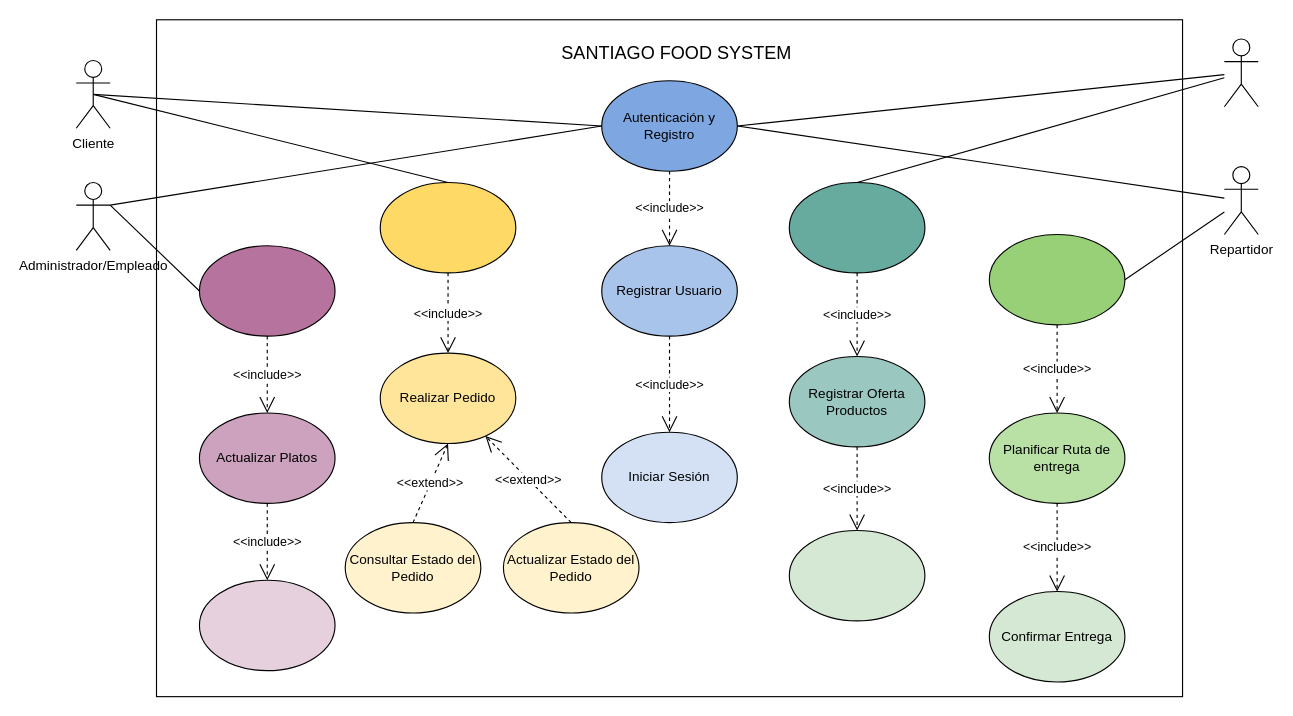
This 1293x716 diagram has some shape labels left out. Here are the shapes that lost their labels. From the top down, the box of each, then its label:
(1223, 38, 1258, 107): Proveedor
(379, 181, 516, 273): Gestión de Pedidos
(788, 181, 925, 273): Gestión Proveedores
(198, 245, 335, 336): Gestión del Menú
(988, 233, 1125, 325): Entrega de Pedidos
(788, 529, 925, 621): Actualizar Disponibilidad Producto
(198, 579, 335, 671): Publicar Platos
